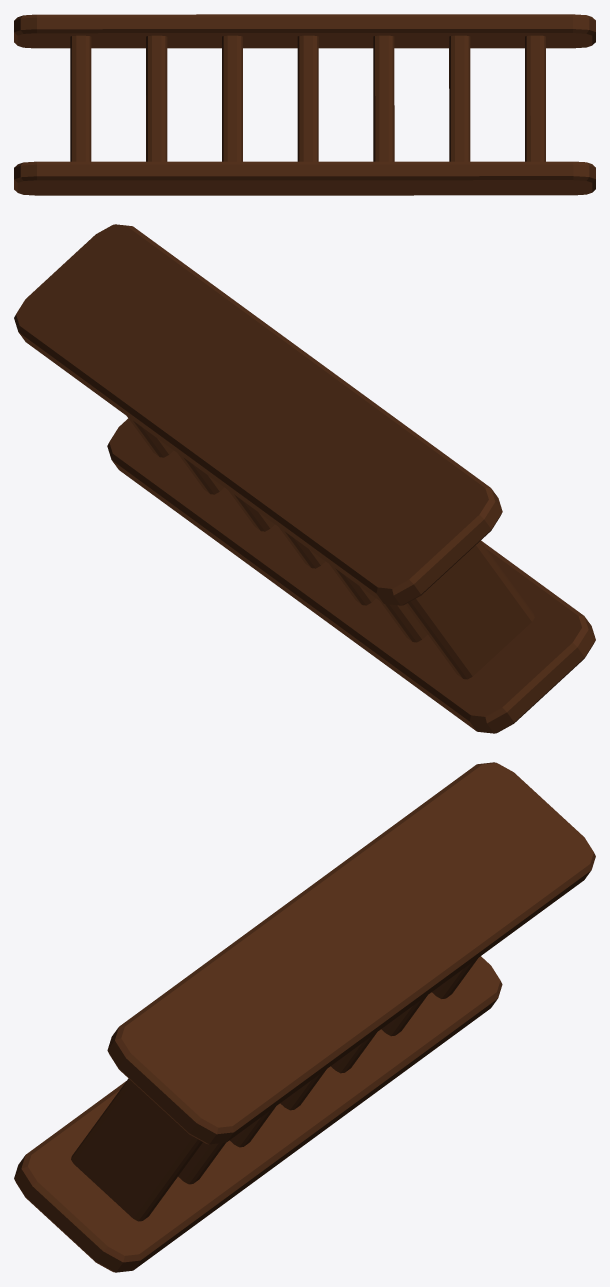
Rendered from ladder3.glb.
3 views of the same model, one above another, from view 1: azimuth 30°, elevation 25°; view 2: azimuth 150°, elevation 25°; view 3: azimuth 270°, elevation 25° (orthographic). The views are drawn at different scales.
Parts seen in each view (by area): view 1: Cube.028, Cube.029, Cube.030; view 2: Cube.030, Cube.028, Cube.029; view 3: Cube.030, Cube.028, Cube.029.
Boxes of the visible parts, x1,y1,x2,y2 form: Cube.028: [14, 161, 595, 195]; Cube.029: [70, 35, 545, 161]; Cube.030: [14, 14, 595, 48]; Cube.030: [14, 224, 502, 605]; Cube.028: [107, 418, 595, 733]; Cube.029: [127, 416, 534, 679]; Cube.030: [107, 762, 595, 1144]; Cube.028: [14, 956, 502, 1272]; Cube.029: [71, 958, 477, 1221].
Bounding box in the file's own units: 0.3932 × 0.1361 × 0.2953.
